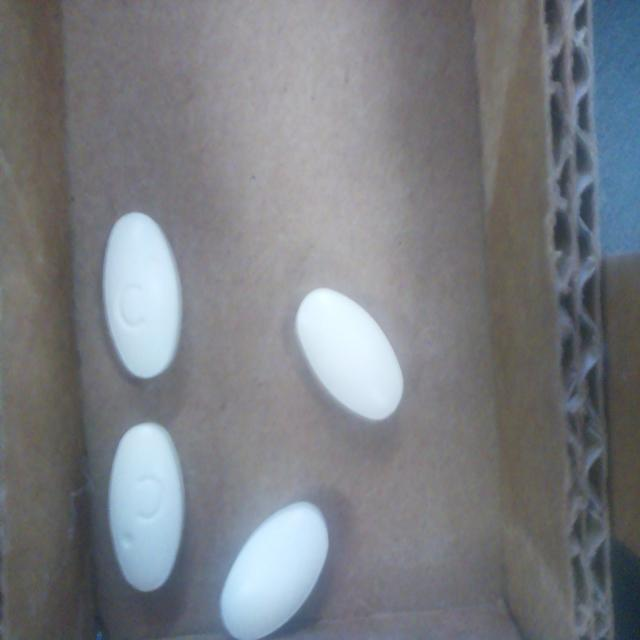pill: (220, 501, 329, 640), (295, 288, 404, 421), (102, 212, 182, 379), (108, 422, 185, 592)
